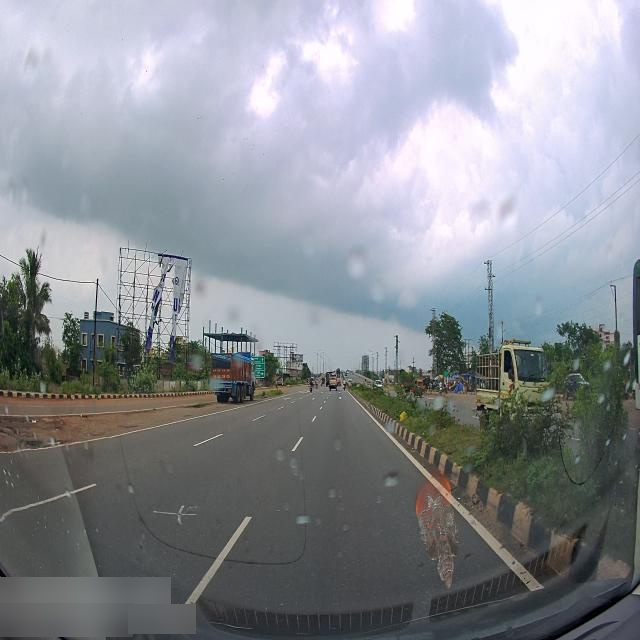pothole: (37, 435, 64, 448)
